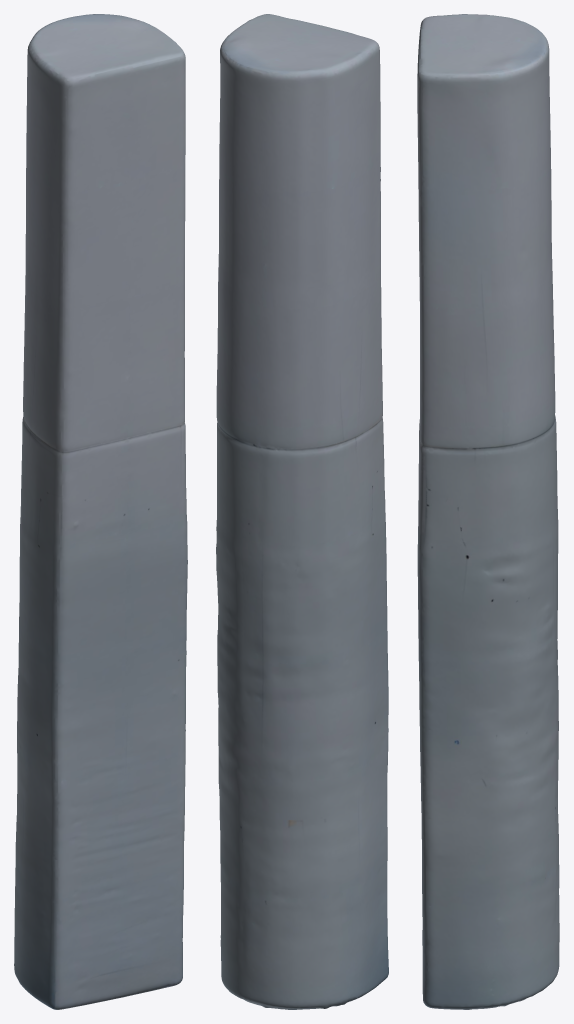
File: Circular Beam Column.glb
3 renders of one model, left to right at view 1: azimuth 30°, elevation 25°; view 2: azimuth 150°, elevation 25°; view 3: azimuth 270°, elevation 25°, orthographic.
Visible parts, largest first — view 1: tripo_node_c309159b-bfbc-4fc6-8c52-bccd0b2d15ee; view 2: tripo_node_c309159b-bfbc-4fc6-8c52-bccd0b2d15ee; view 3: tripo_node_c309159b-bfbc-4fc6-8c52-bccd0b2d15ee.
Boxes of the visible parts, x1=… form: tripo_node_c309159b-bfbc-4fc6-8c52-bccd0b2d15ee: x1=14, y1=14, x2=187, y2=1009; tripo_node_c309159b-bfbc-4fc6-8c52-bccd0b2d15ee: x1=216, y1=14, x2=388, y2=1009; tripo_node_c309159b-bfbc-4fc6-8c52-bccd0b2d15ee: x1=417, y1=14, x2=559, y2=1009.
Bounding box in the file's own units: 0.1553 × 1 × 0.137.
Materials: 1 (1 with a texture image).
